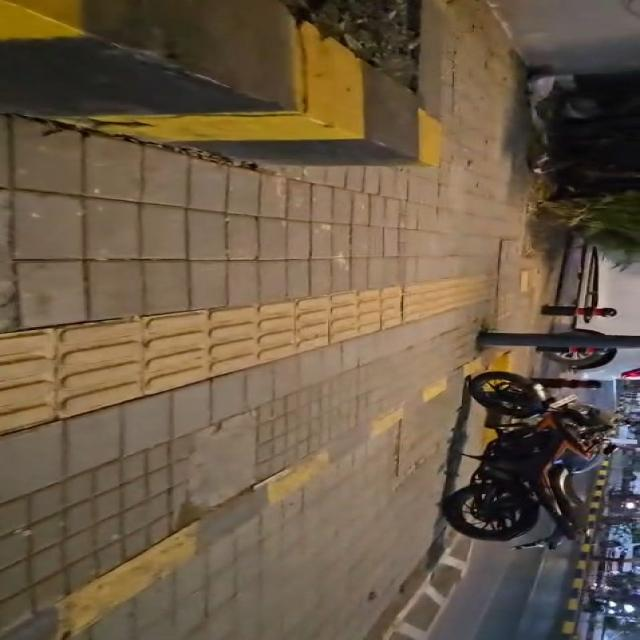obstacle: (442, 372, 613, 548), (477, 332, 639, 350), (541, 305, 617, 317), (532, 378, 602, 388)
